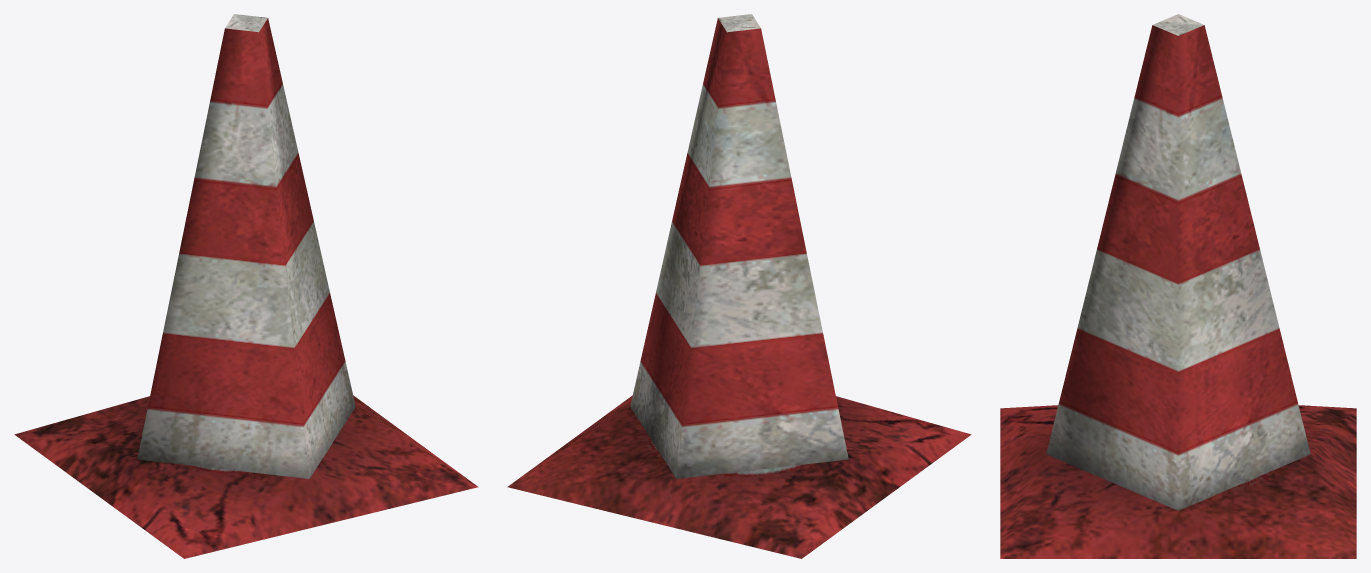
File: road_conus.FBX
The picture shows the model from 3 angles, left to right: view 1: azimuth 30°, elevation 25°; view 2: azimuth 150°, elevation 25°; view 3: azimuth 270°, elevation 25°; orthographic projection. The views are drawn at different scales.
Visible parts, largest first — view 1: polySurface4; view 2: polySurface4; view 3: polySurface4.
Boxes of the visible parts, x1=… form: polySurface4: x1=14, y1=14, x2=478, y2=558; polySurface4: x1=507, y1=14, x2=971, y2=558; polySurface4: x1=1000, y1=14, x2=1356, y2=558.
Size of the model in its own units: 0.1969 by 0.2795 by 0.1969.
